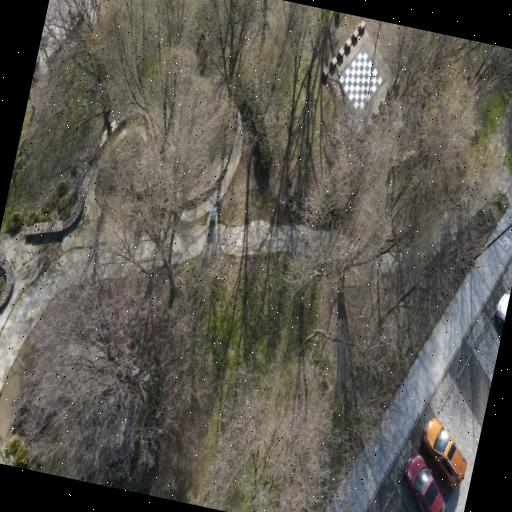car: (419, 419, 466, 488), (401, 454, 444, 511), (494, 294, 509, 326)
